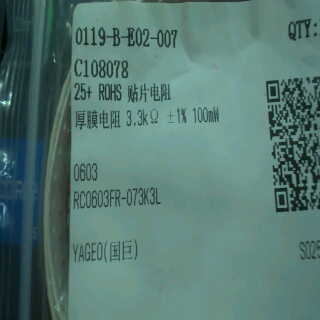3.3kO: (123, 107, 158, 130)
